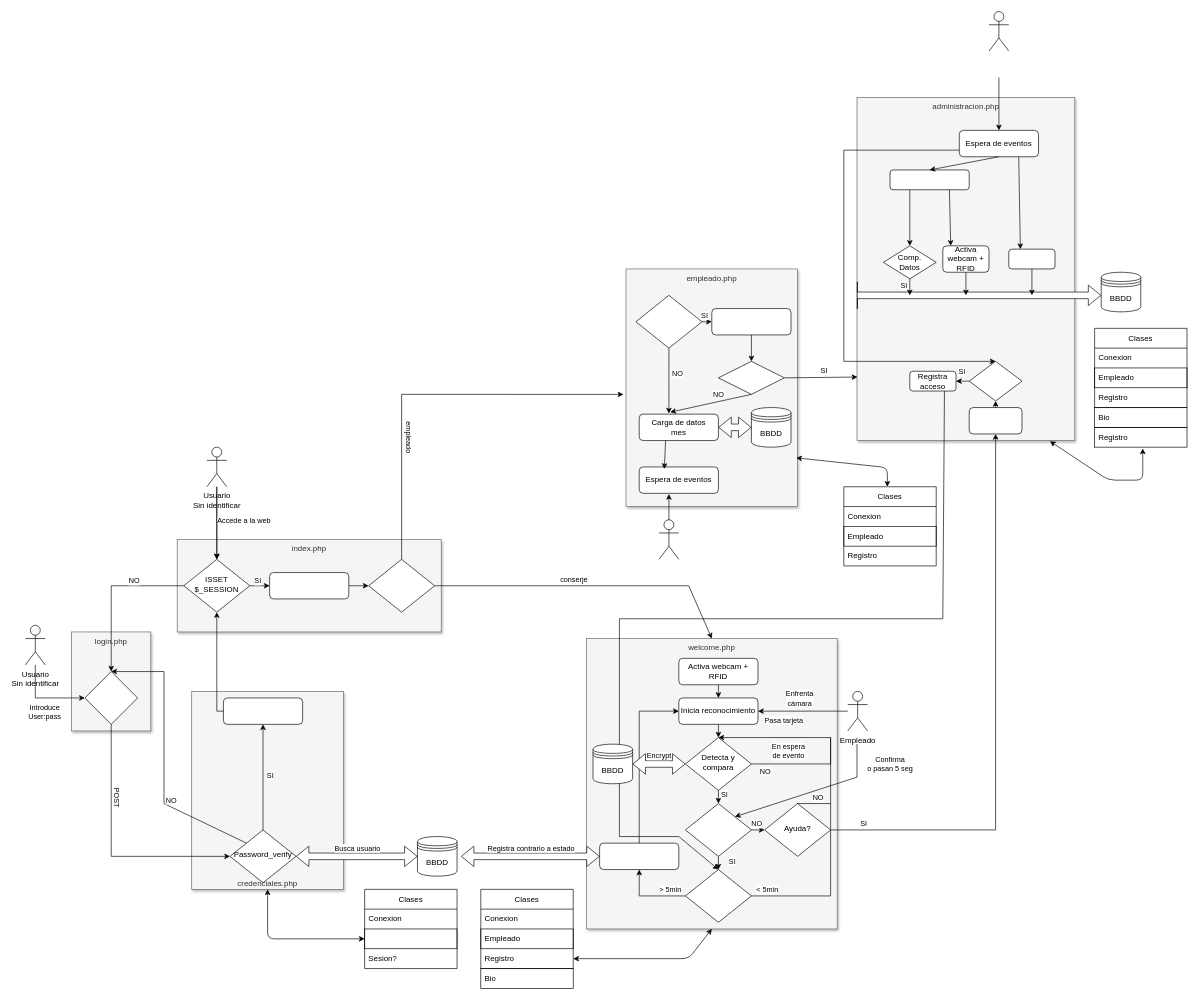
Image size: 1199x1000. Some labels were removed from this diagram. Each missing label, with the centre of its shape:
Activa botón backend: the point at 751,321
Comprobar ['Rol']: the point at 401,585
Comprueba Campos: the point at 111,697
Comprueba rol admin: the point at 668,321
Configurar aplicación: the point at 1031,258
CRUD Empelado: the point at 929,179
Graba $_SESSION: the point at 263,710
Incidencia Muestra foto: the point at 995,420
LEE $_SESSION: the point at 309,585
Pulsa Botón: the point at 751,377
Reconoce: the point at 718,829
Reconoce empleado: the point at 995,381
Registro horario: the point at 639,856
Usuario: the point at 410,938
Usuario empelado: the point at 668,539
Usuario empleado-admin: the point at 998,31
Última entrada: the point at 718,895
